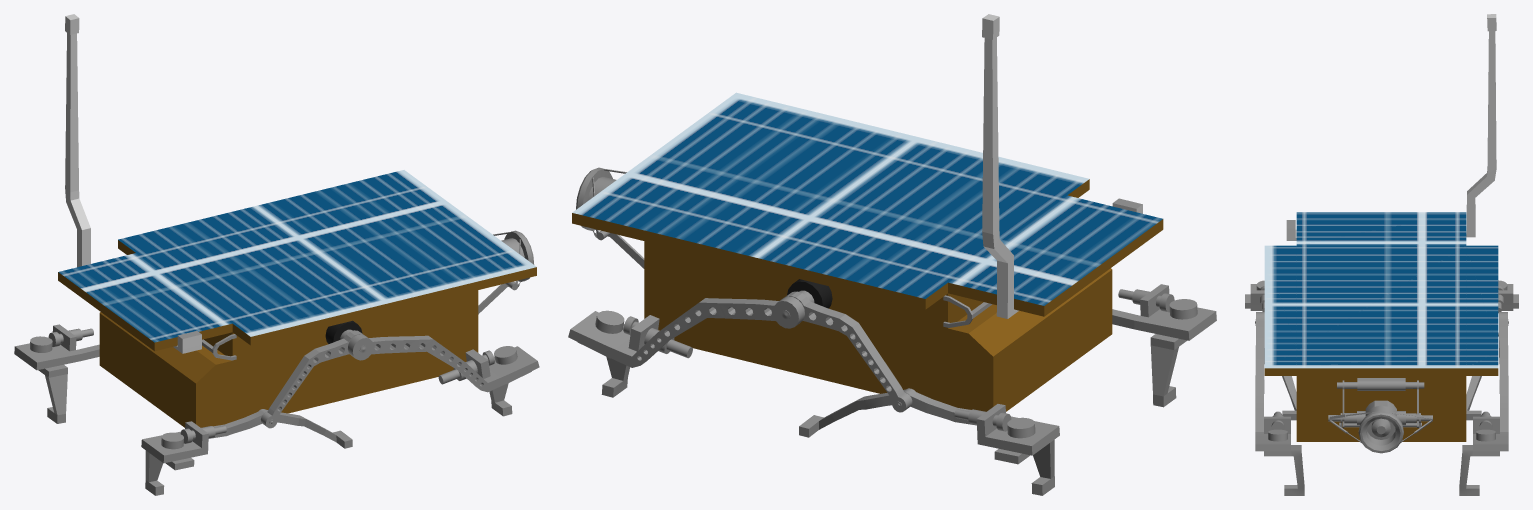
The model's file is Sojourner_noWheels.fbx.
3 renders of one model, left to right at view 1: azimuth 30°, elevation 25°; view 2: azimuth 150°, elevation 25°; view 3: azimuth 270°, elevation 25°, orthographic. The views are drawn at different scales.
Visible parts, largest first — view 1: SojournerRover, RoverWheelsFront.R, RoverBackWheels.R, RoverBackWheels.L, RoverWheelsMiddle.R, RoverDrillHead; view 2: SojournerRover, RoverWheelsFront.L, RoverBackWheels.L, RoverBackWheels.R, RoverWheelsMiddle.L, RoverDrillHead, RoverWheelsConnector.L; view 3: SojournerRover, RoverWheelsFront.R, RoverWheelsFront.L, RoverDrillHead, RoverBackWheels.L, RoverBackWheels.R, RoverUpperArm.
Part boxes in pixels (left/top/right/bottom): SojournerRover: left=58, top=14, right=536, bottom=427; RoverWheelsFront.R: left=348, top=334, right=539, bottom=416; RoverBackWheels.R: left=141, top=409, right=352, bottom=495; RoverBackWheels.L: left=14, top=324, right=99, bottom=423; RoverWheelsMiddle.R: left=261, top=330, right=363, bottom=428; RoverDrillHead: left=493, top=230, right=534, bottom=290; SojournerRover: left=572, top=14, right=1163, bottom=411; RoverWheelsFront.L: left=568, top=296, right=804, bottom=397; RoverBackWheels.L: left=799, top=388, right=1059, bottom=495; RoverBackWheels.R: left=1112, top=284, right=1216, bottom=407; RoverWheelsMiddle.L: left=785, top=291, right=912, bottom=412; RoverDrillHead: left=576, top=167, right=626, bottom=240; RoverWheelsConnector.L: left=787, top=279, right=832, bottom=308; SojournerRover: left=1264, top=14, right=1498, bottom=441; RoverWheelsFront.R: left=1255, top=312, right=1304, bottom=495; RoverWheelsFront.L: left=1459, top=312, right=1508, bottom=495; RoverDrillHead: left=1328, top=400, right=1432, bottom=453; RoverBackWheels.L: left=1466, top=280, right=1518, bottom=420; RoverBackWheels.R: left=1245, top=280, right=1296, bottom=420; RoverUpperArm: left=1337, top=380, right=1424, bottom=427.
Size of the model in its own units: 72.92 by 101 by 117.
